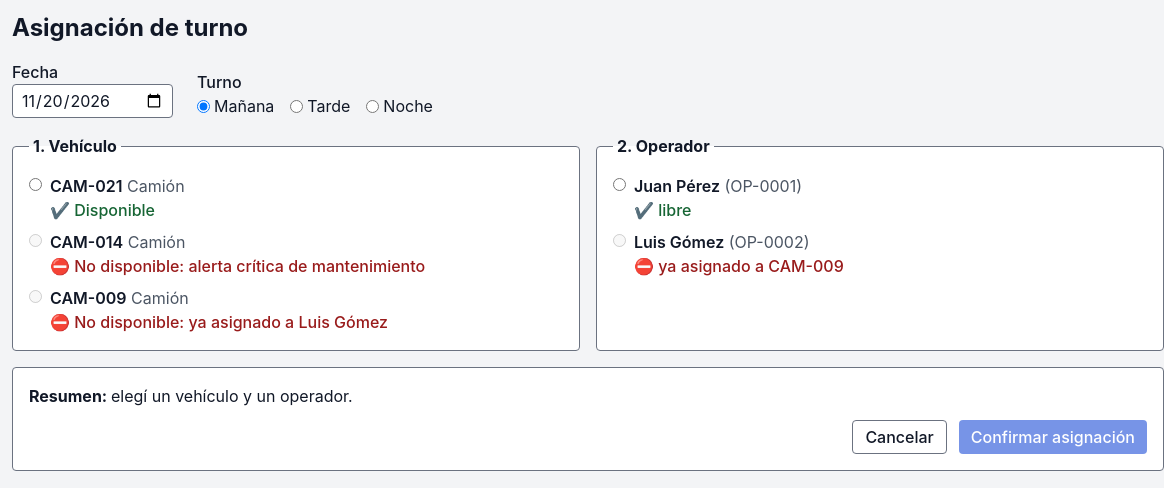
Test: ShiftsPage › Esc y Cancelar descartan la selección
This screenshot has width=1164, height=488.
Click the radio button labelled "CAM-021 Camión✔ Disponible" at (36, 184), box [29,178,42,191]
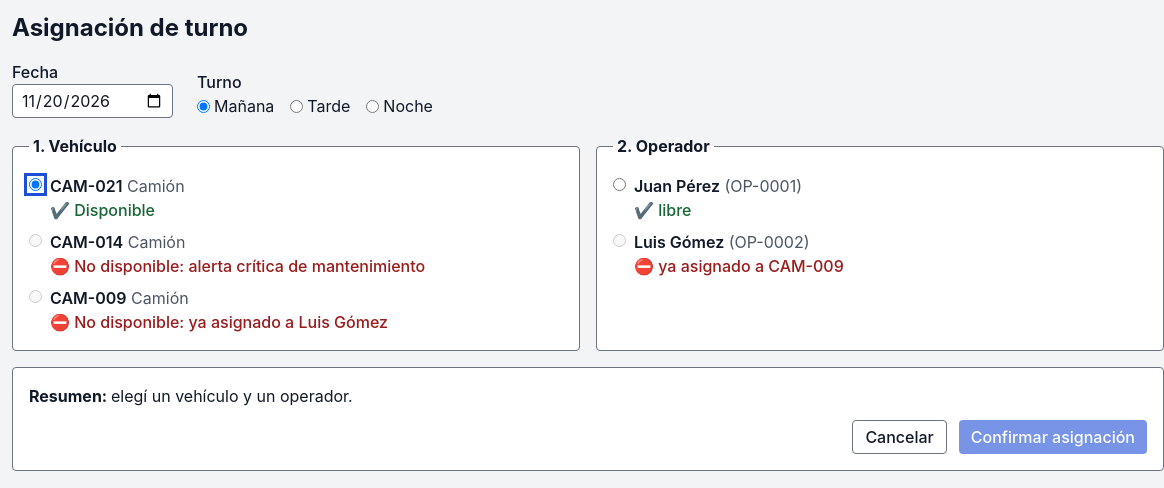
Click the radio button labelled "Juan Pérez (OP-0001)✔ libre" at (620, 184), box [613,178,626,191]
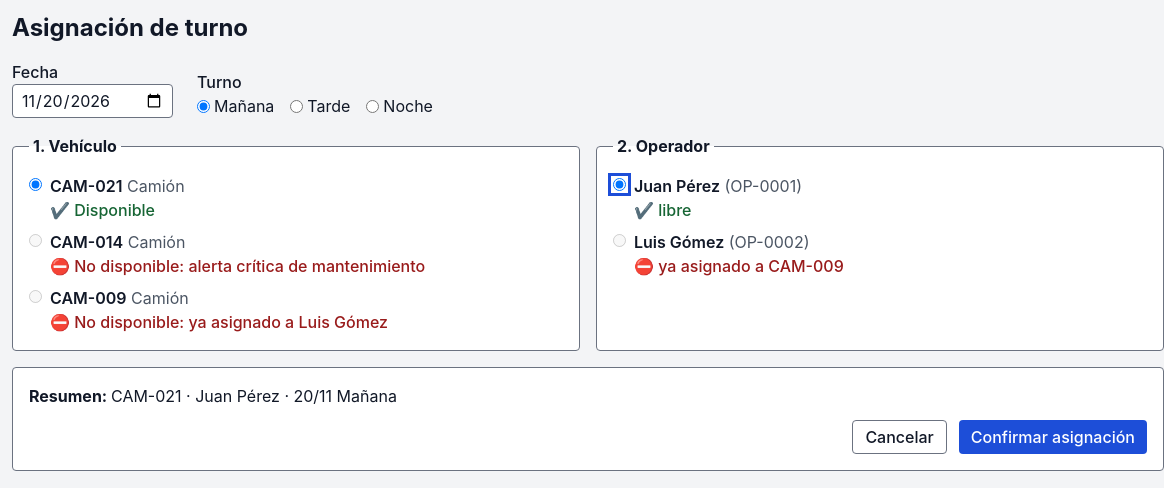
Press Escape
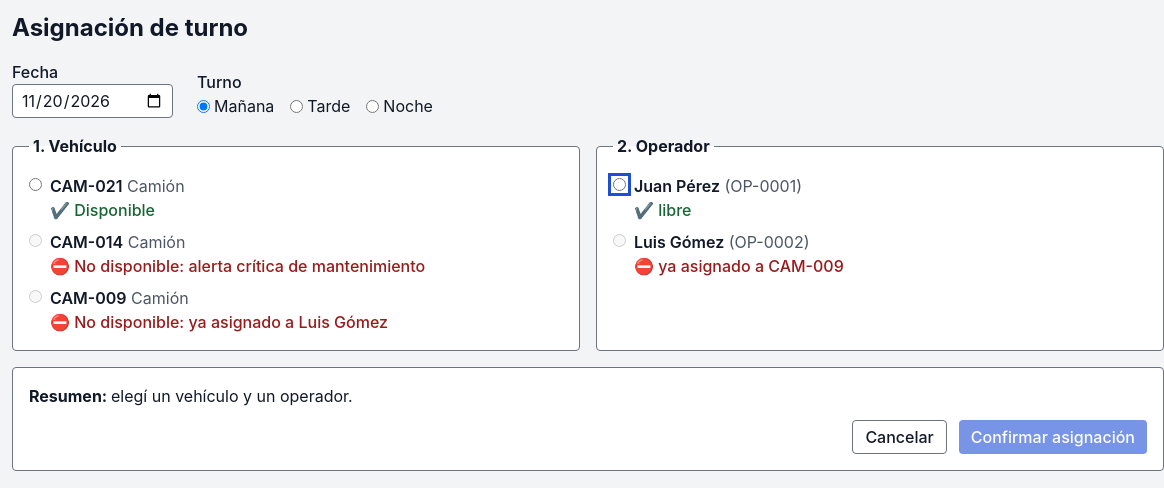
Expected: the radio button labelled "CAM-021 Camión✔ Disponible" is not checked, [29,178,42,191]
Expected: the radio button labelled "Juan Pérez (OP-0001)✔ libre" is not checked, [613,178,626,191]
